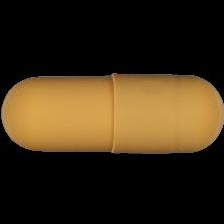54868-3107: (0, 0, 224, 224)
